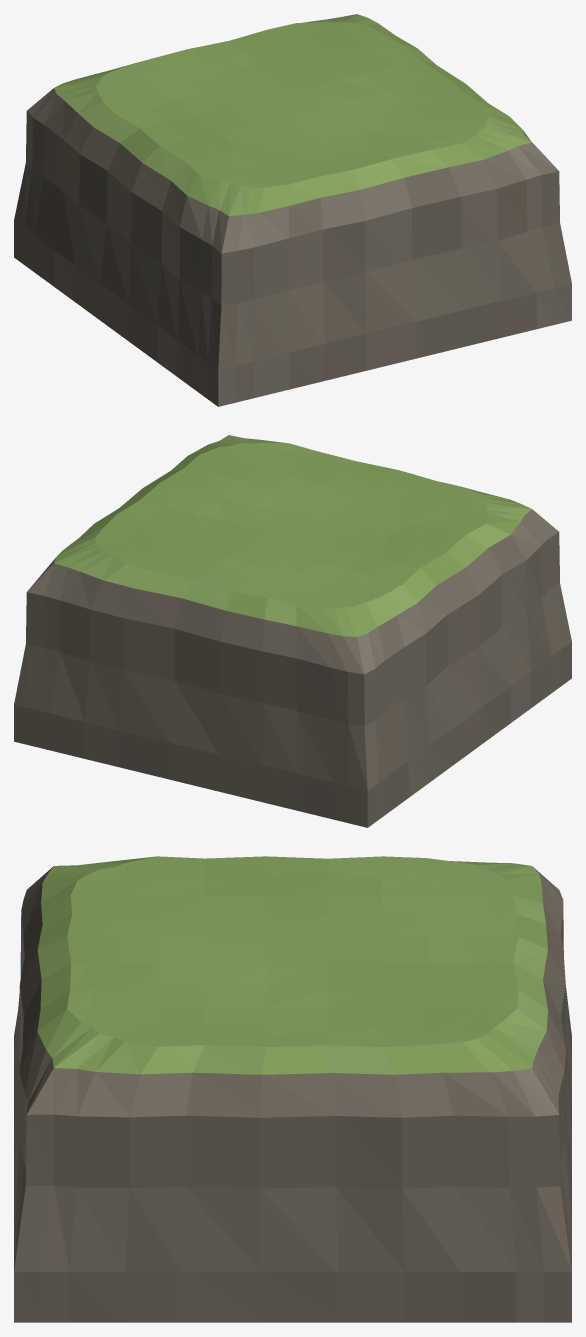
The model's file is grass_islet.glb.
3 views of the same model, one above another, from view 1: azimuth 30°, elevation 25°; view 2: azimuth 150°, elevation 25°; view 3: azimuth 270°, elevation 25° (orthographic). The views are drawn at different scales.
Visible parts, largest first — view 1: grass_islet; view 2: grass_islet; view 3: grass_islet.
Boxes of the visible parts, x1,y1,x2,y2 form: grass_islet: [14, 14, 571, 406]; grass_islet: [14, 435, 571, 827]; grass_islet: [14, 856, 571, 1322].
Bounding box in the file's own units: 1 × 0.5 × 1.
